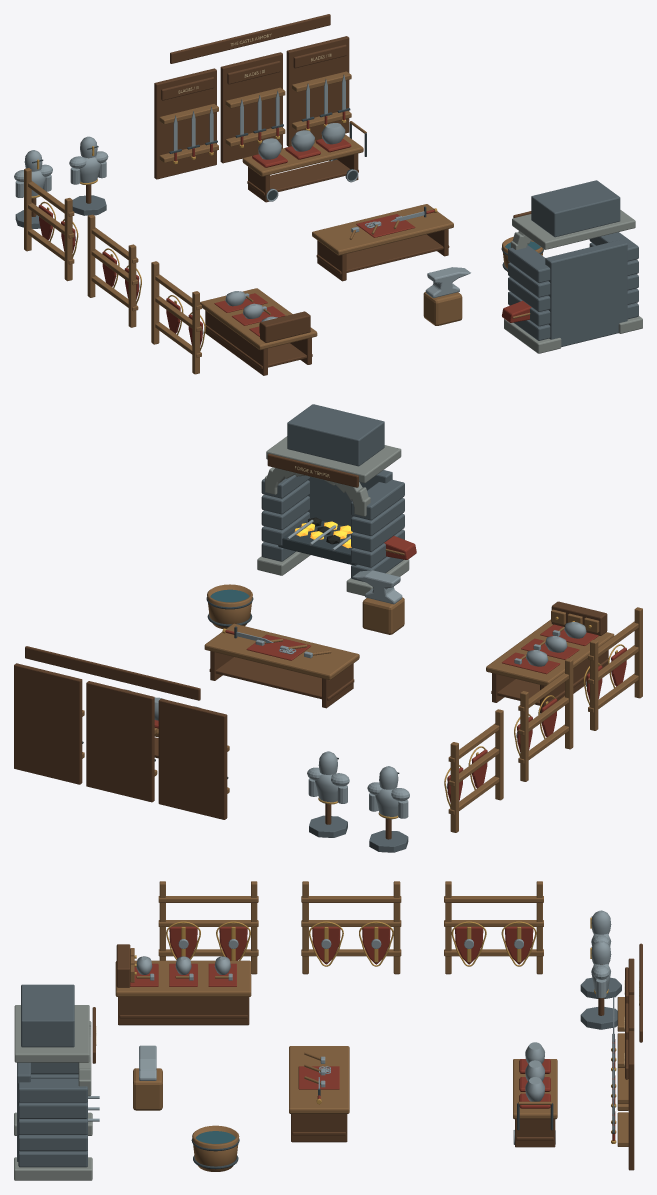
File: armory.glb
The picture shows the model from 3 angles, top to bottom: view 1: azimuth 30°, elevation 25°; view 2: azimuth 150°, elevation 25°; view 3: azimuth 270°, elevation 25°; orthographic projection. The views are drawn at different scales.
Visible parts, largest first — view 1: Crafted assembly 005, Crafted assembly 015, Crafted assembly 012, Crafted assembly 006, Crafted assembly 007, Crafted assembly 001, Crafted assembly 014, Crafted assembly 002, Crafted assembly 009, Crafted assembly 013, Crafted assembly 000, Crafted assembly 008 (+1 smaller); view 2: Crafted assembly 005, Crafted assembly 015, Crafted assembly 012, Crafted assembly 006, Crafted assembly 014, Crafted assembly 002, Crafted assembly 013, Crafted assembly 001, Crafted assembly 007, Crafted assembly 008, Crafted assembly 000, Crafted assembly 009 (+1 smaller); view 3: Crafted assembly 012, Crafted assembly 015, Crafted assembly 006, Crafted assembly 013, Crafted assembly 005, Crafted assembly 001, Crafted assembly 014, Crafted assembly 002, Crafted assembly 007, Crafted assembly 003, Crafted assembly 009, Crafted assembly 000 (+1 smaller).
Part boxes in pixels (box(x1,y1,x2,y2)): Crafted assembly 005: box(154, 14, 531, 281); Crafted assembly 015: box(508, 180, 638, 346); Crafted assembly 012: box(24, 168, 317, 374); Crafted assembly 006: box(159, 71, 543, 325); Crafted assembly 007: box(173, 74, 470, 297); Crafted assembly 001: box(31, 158, 312, 375); Crafted assembly 014: box(504, 210, 642, 353); Crafted assembly 002: box(14, 136, 277, 334); Crafted assembly 009: box(174, 111, 531, 322); Crafted assembly 013: box(38, 204, 285, 346); Crafted assembly 000: box(15, 195, 106, 228); Crafted assembly 008: box(169, 108, 544, 271); Crafted assembly 005: box(14, 453, 358, 819); Crafted assembly 015: box(261, 404, 404, 581); Crafted assembly 012: box(448, 607, 642, 832); Crafted assembly 006: box(82, 549, 404, 793); Crafted assembly 014: box(257, 436, 409, 595); Crafted assembly 002: box(307, 622, 586, 819); Crafted assembly 013: box(447, 624, 626, 802); Crafted assembly 001: box(325, 601, 608, 839); Crafted assembly 007: box(124, 519, 402, 720); Crafted assembly 008: box(82, 518, 356, 778); Crafted assembly 000: box(309, 815, 408, 852); Crafted assembly 009: box(154, 536, 416, 728); Crafted assembly 012: box(115, 881, 543, 996); Crafted assembly 015: box(17, 984, 87, 1167); Crafted assembly 006: box(133, 997, 628, 1171); Crafted assembly 013: box(130, 926, 533, 986); Crafted assembly 005: box(92, 943, 642, 1170); Crafted assembly 001: box(116, 944, 604, 1025); Crafted assembly 014: box(14, 1005, 92, 1180); Crafted assembly 002: box(136, 910, 611, 998); Crafted assembly 007: box(88, 997, 614, 1144); Crafted assembly 003: box(134, 917, 608, 993); Crafted assembly 009: box(298, 1039, 615, 1140); Crafted assembly 000: box(580, 977, 621, 1029).
Size of what is drawn, in the model's own units: 13.9 by 4.65 by 17.62.
